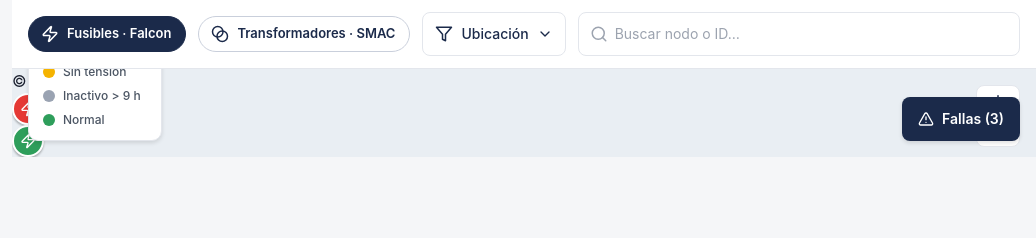
Test: SCRUM-77 · F-12 — node markers at recorded coordinates › AC2 — places every marker at the latitude and longitude recorded for its node
Click the button "Transformadores · SMAC".
click(304, 34)  # box x1=198 y1=16 x2=410 y2=52
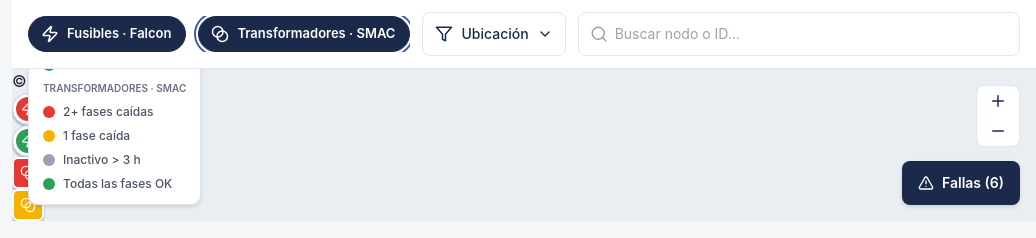
Check: the number of elements with test id "map-marker" is 4, box x1=12 y1=93 x2=70 y2=125; x1=12 y1=125 x2=70 y2=157; x1=12 y1=157 x2=44 y2=189; x1=12 y1=189 x2=44 y2=221
